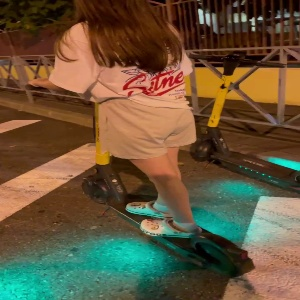human on a scooter: (24, 1, 257, 280)
